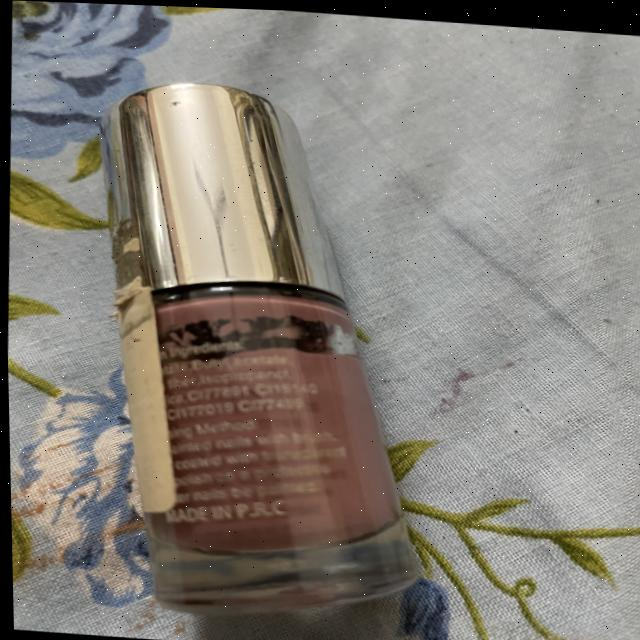nail polish: (68, 64, 464, 632)
